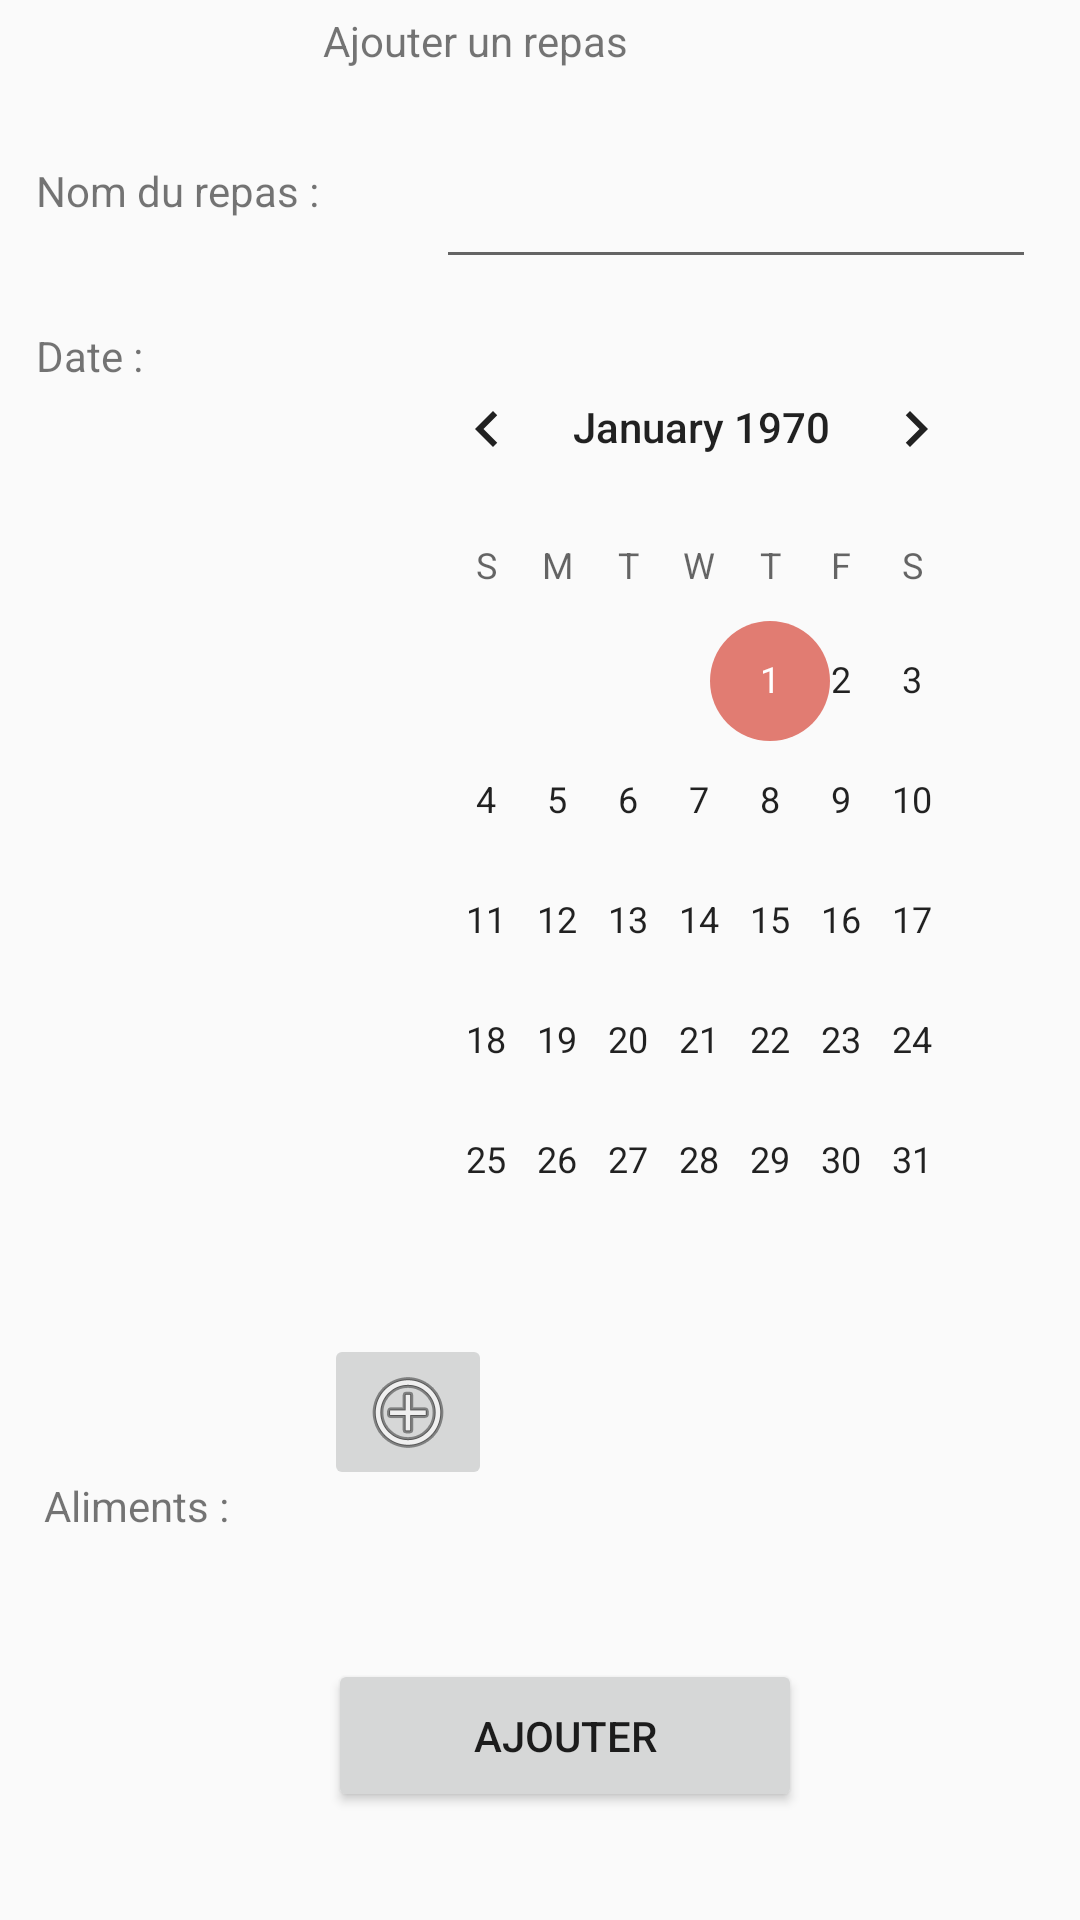

Screen size 1080px x 1920px. Icon name, then its box in pixels as {"left": x1, "top": y1, "right": x2, "bottom": y2}:
add: {"left": 336, "top": 1352, "right": 480, "bottom": 1472}
